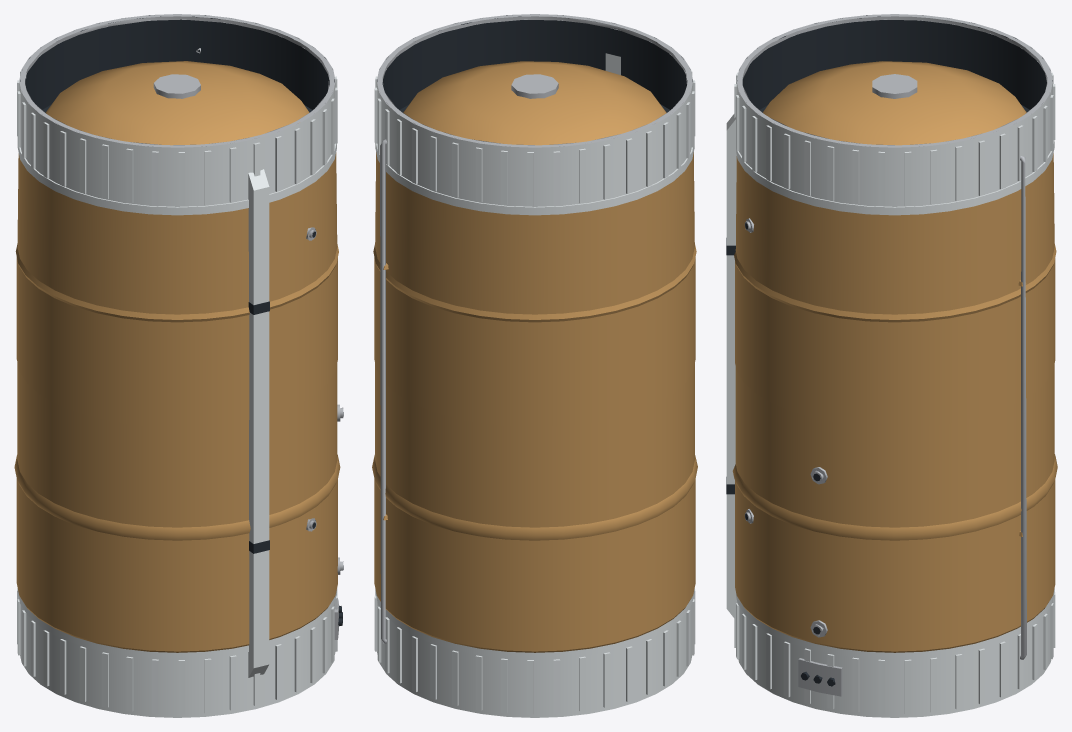
Rendered from tank_s2_xl_hydrolox.glb.
3 views of the same model, side by side, from view 1: azimuth 30°, elevation 25°; view 2: azimuth 150°, elevation 25°; view 3: azimuth 270°, elevation 25° (orthographic).
Parts seen in each view (by area): view 1: tank_s2_xl_hydrolox_mesh; view 2: tank_s2_xl_hydrolox_mesh; view 3: tank_s2_xl_hydrolox_mesh.
Boxes of the visible parts, box(x1,y1,x2,y2) form: tank_s2_xl_hydrolox_mesh: box(14, 14, 343, 717); tank_s2_xl_hydrolox_mesh: box(372, 14, 697, 717); tank_s2_xl_hydrolox_mesh: box(726, 14, 1057, 717).
Size of the model in its own units: 8.65 by 16.7 by 8.8.
